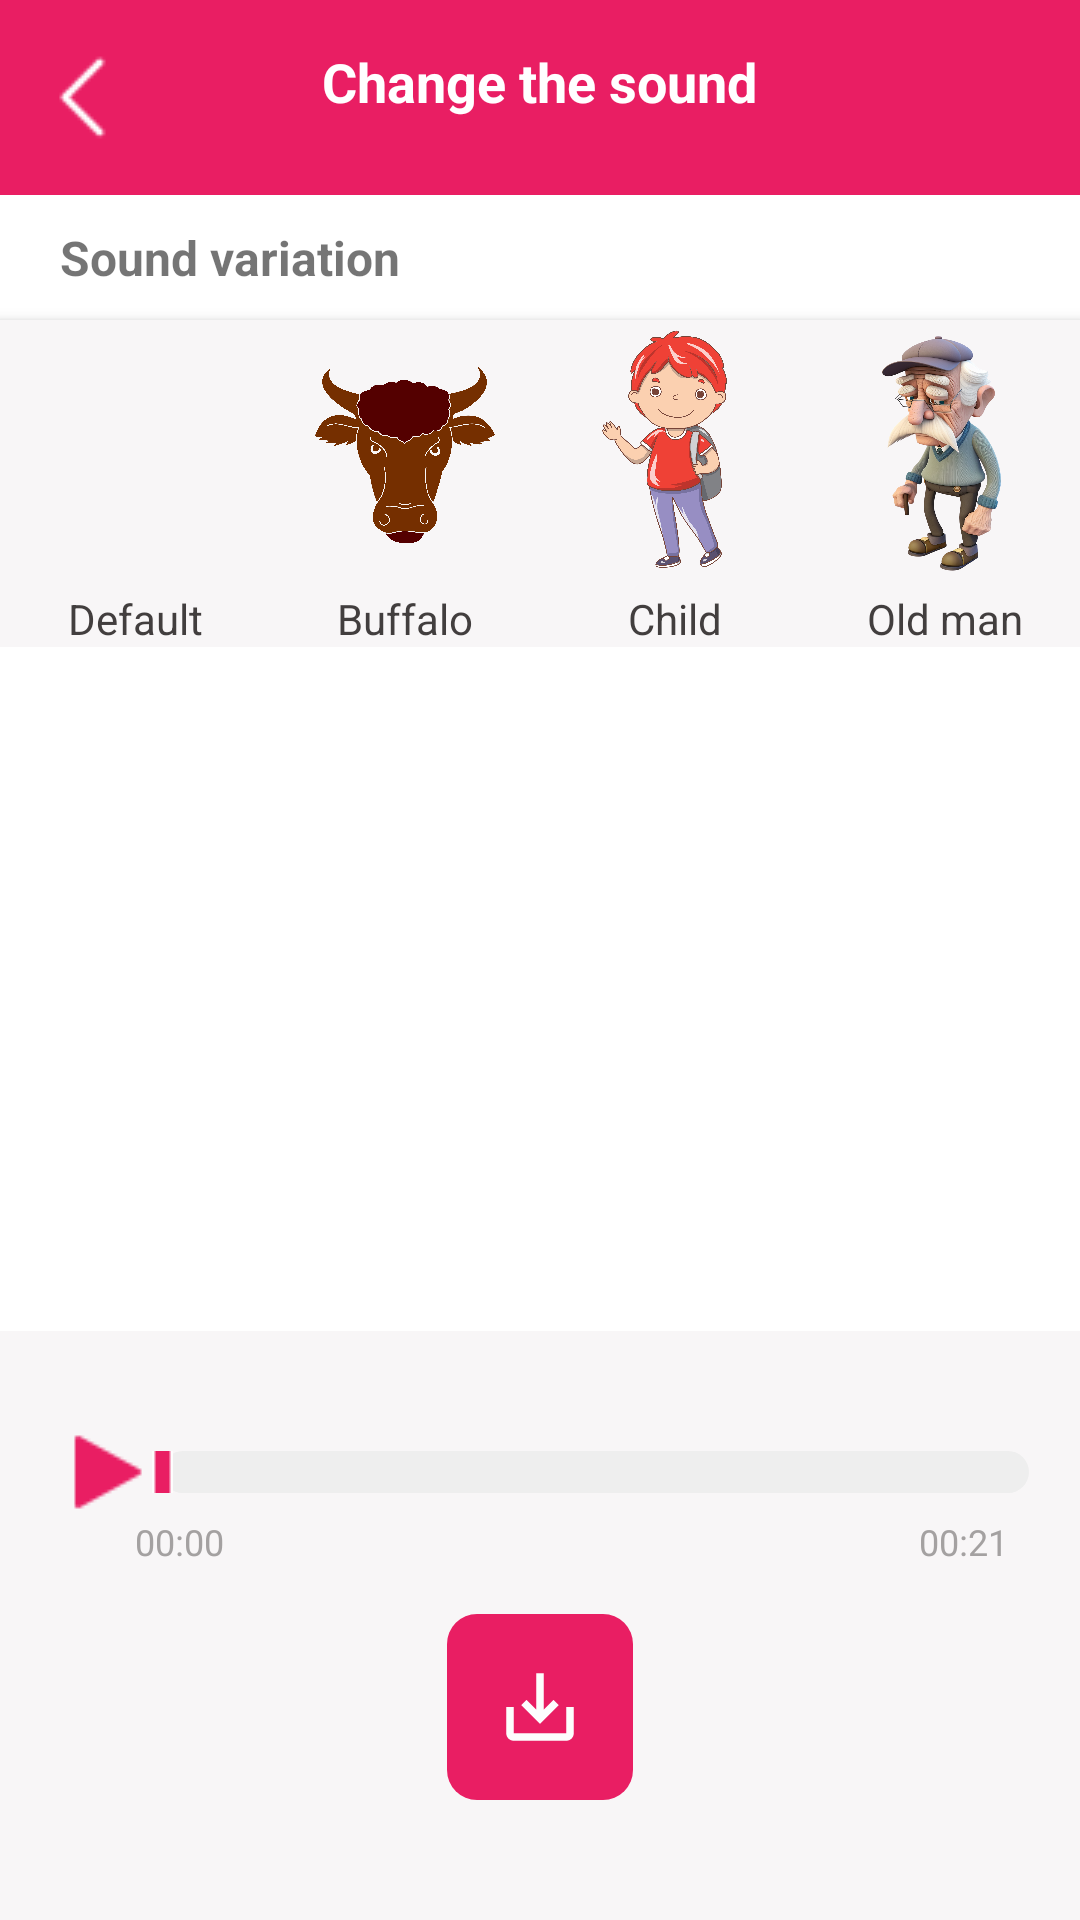

Screen size 1080px x 1920px. Icon name, then its box in pixels as (x1=x1, y1=y1, x2=x2, y2=y2):
back: (x1=59, y1=57, x2=106, y2=137)
play combine main: (x1=74, y1=1435, x2=142, y2=1509)
save: (x1=447, y1=1614, x2=633, y2=1800)
